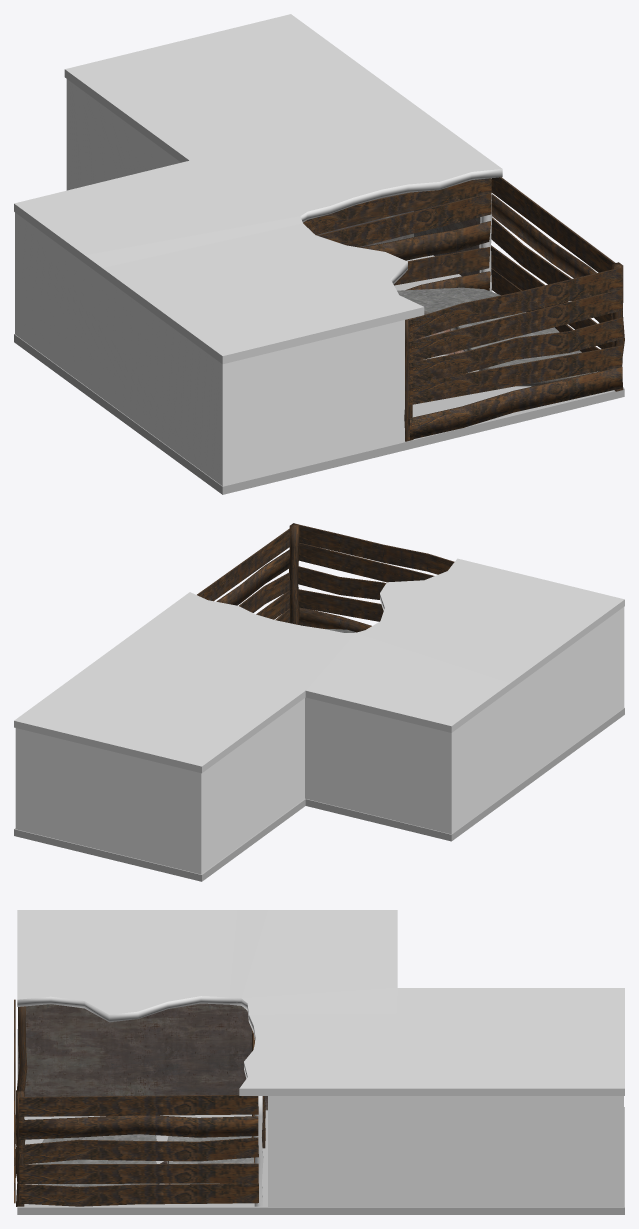
Rendered from Fase5.fbx.
The picture shows the model from 3 angles, top to bottom: view 1: azimuth 30°, elevation 25°; view 2: azimuth 150°, elevation 25°; view 3: azimuth 270°, elevation 25°; orthographic projection. The views are drawn at different scales.
Parts seen in each view (by area): view 1: teto, paredes, chão, Cube.010, Cube.009, Cube.006, Cube.008, Cube.007, Cube.022, Cube.023, Cube.015, Cube.021 (+7 smaller); view 2: teto, paredes, chão, Cube.010, Cube.009, Cube.015, Cube.008, Cube.007, Cube.014, Cube.006, Cube.002, Cube.016; view 3: teto, paredes, chão, Cube.018, Cube.014, Cube.015, Cube.016, Cube.017, Cube, Cube.001, Cube.005, Cube.003 (+1 smaller).
Part boxes in pixels (bbox=[...]): teto: bbox=[14, 14, 502, 364]; paredes: bbox=[15, 79, 480, 486]; chão: bbox=[14, 255, 624, 494]; Cube.010: bbox=[408, 267, 622, 341]; Cube.009: bbox=[408, 289, 622, 362]; Cube.006: bbox=[408, 367, 622, 439]; Cube.008: bbox=[408, 317, 622, 384]; Cube.007: bbox=[408, 345, 623, 405]; Cube.022: bbox=[317, 193, 491, 247]; Cube.023: bbox=[303, 178, 491, 234]; Cube.015: bbox=[491, 177, 615, 272]; Cube.021: bbox=[360, 221, 490, 260]; teto: bbox=[14, 558, 624, 773]; paredes: bbox=[15, 607, 624, 874]; chão: bbox=[14, 708, 624, 881]; Cube.010: bbox=[299, 524, 454, 574]; Cube.009: bbox=[299, 543, 434, 582]; Cube.015: bbox=[197, 528, 290, 601]; Cube.008: bbox=[298, 566, 386, 599]; Cube.007: bbox=[298, 589, 383, 621]; Cube.014: bbox=[216, 549, 289, 605]; Cube.006: bbox=[299, 607, 371, 632]; Cube.002: bbox=[289, 523, 299, 624]; Cube.016: bbox=[239, 572, 290, 612]; teto: bbox=[17, 910, 624, 1095]; paredes: bbox=[18, 1003, 623, 1206]; chão: bbox=[17, 1029, 624, 1214]; Cube.018: bbox=[19, 1183, 258, 1206]; Cube.014: bbox=[19, 1115, 258, 1139]; Cube.015: bbox=[19, 1095, 258, 1116]; Cube.016: bbox=[19, 1137, 258, 1164]; Cube.017: bbox=[19, 1163, 258, 1183]; Cube: bbox=[37, 1134, 159, 1186]; Cube.001: bbox=[166, 1136, 253, 1184]; Cube.005: bbox=[17, 1006, 27, 1096]; Cube.003: bbox=[253, 1096, 263, 1206].
Bounding box in the file's own units: 1559 × 518 × 2254.
